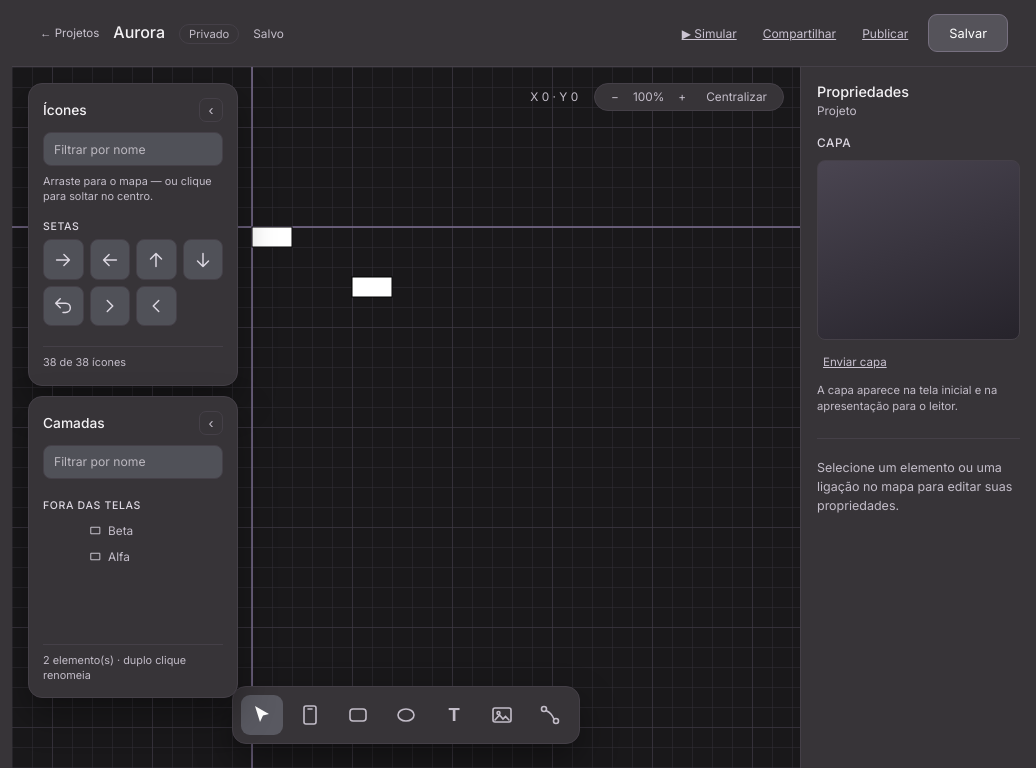
it: selecionar vários objetos no canvas (RF-21) › Shift + clique nas camadas junta a seleção, e o painel alinha o grupo
Click the button "Alfa" at (155, 556), box [87,550,223,564]
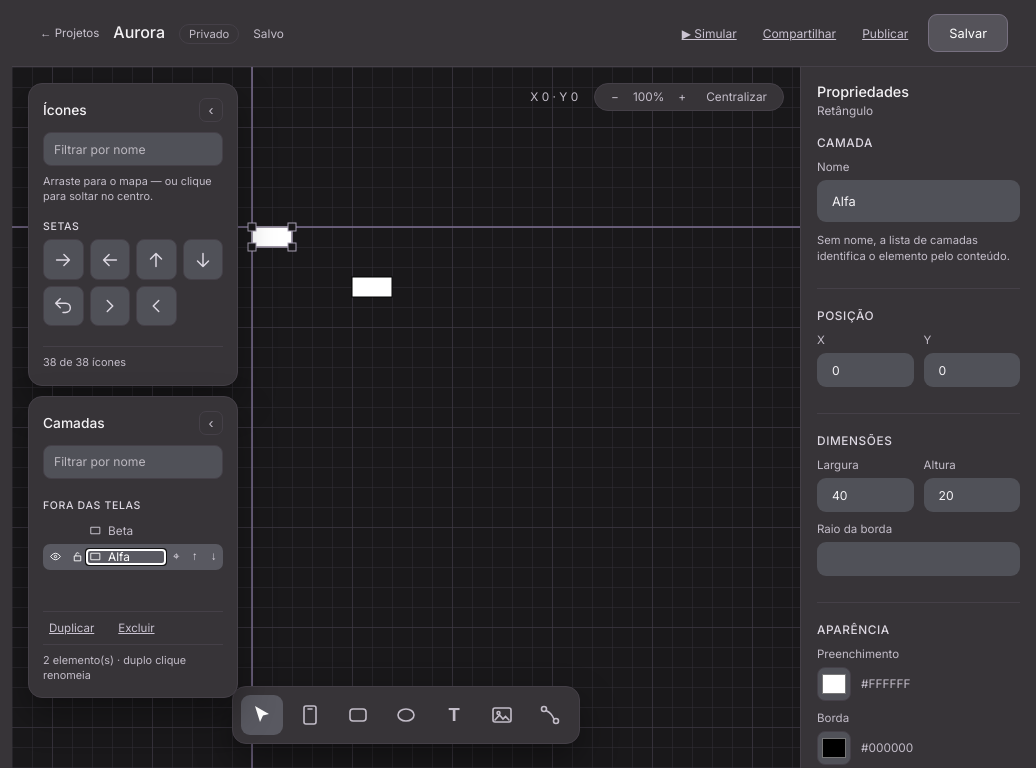
Now the text "Retângulo" is shown, box [817,104,873,118]
Type keys "{Shift>}"
Click the button "Beta" at (155, 530), box [87,524,223,538]
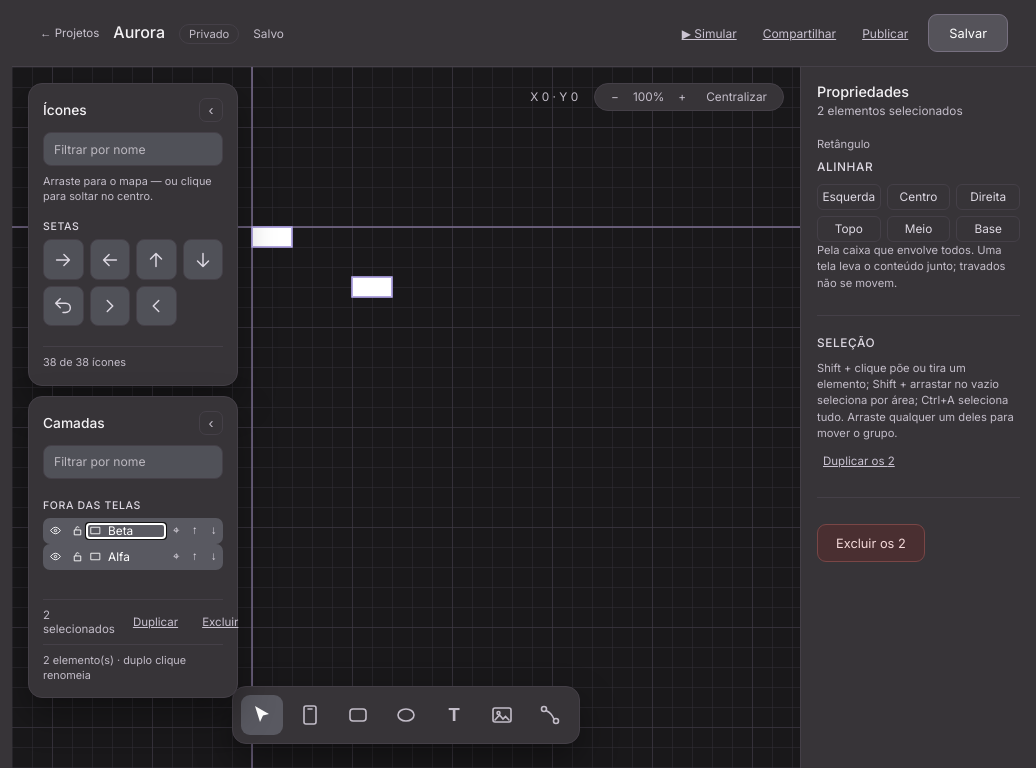
Type keys "{/Shift}"
Now the text "2 elementos selecionados" is shown, box [817,104,963,118]
Now the text "2 selecionados" is shown, box [43,608,115,636]
Click the button "Direita" at (988, 197), box [956,184,1020,210]
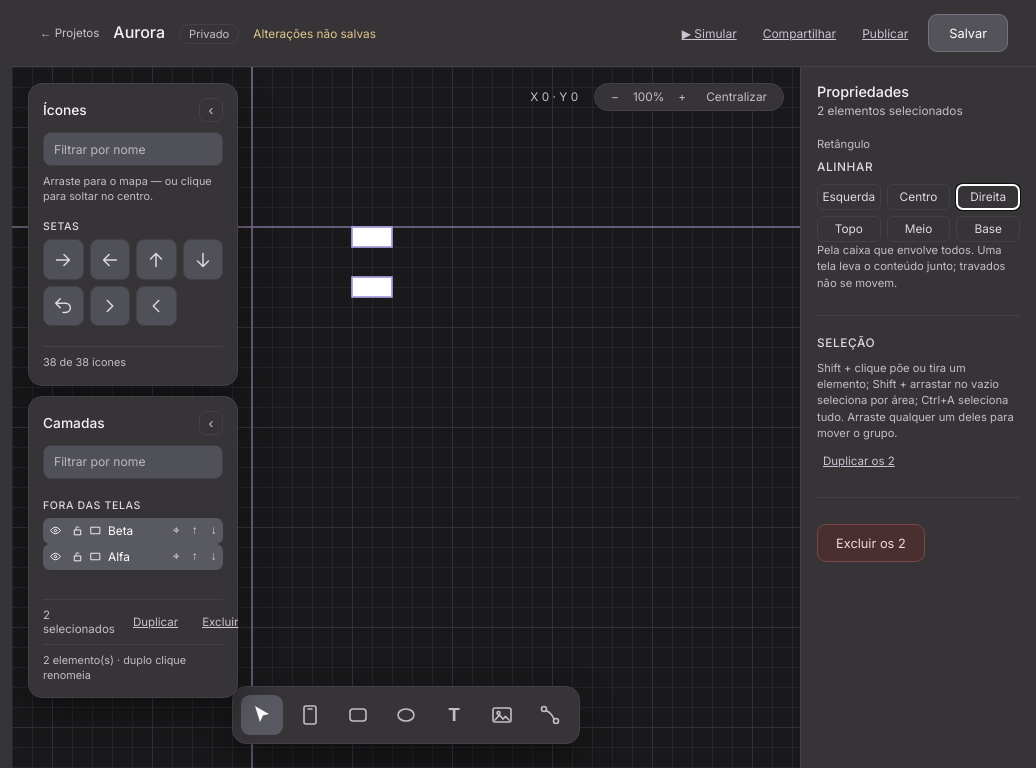
Now the text "Alterações não salvas" is shown, box [253,27,376,41]
